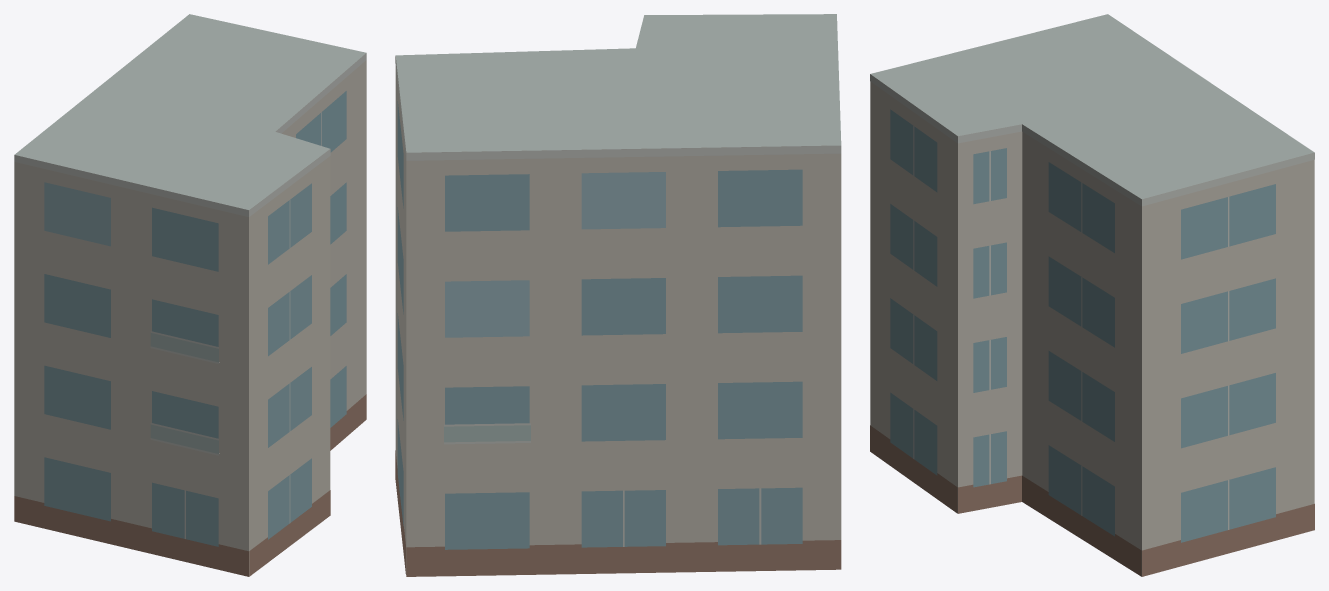
The model's file is survey-upis-32748824.glb.
The picture shows the model from 3 angles, left to right: view 1: azimuth 30°, elevation 25°; view 2: azimuth 150°, elevation 25°; view 3: azimuth 270°, elevation 25°; orthographic projection. The views are drawn at different scales.
Parts seen in each view (by area): view 1: survey-upis-32748824.tmp; view 2: survey-upis-32748824.tmp; view 3: survey-upis-32748824.tmp.
Boxes of the visible parts, x1,y1,x2,y2 form: survey-upis-32748824.tmp: (14,14,366,576); survey-upis-32748824.tmp: (395,14,841,576); survey-upis-32748824.tmp: (870,14,1314,576).
Size of the model in its own units: 13.48 by 12.8 by 13.67.
